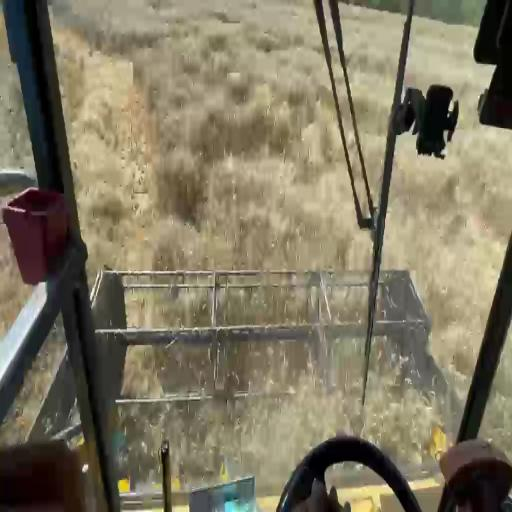arpa: (142, 6, 370, 269), (381, 16, 512, 377), (342, 8, 404, 203)
